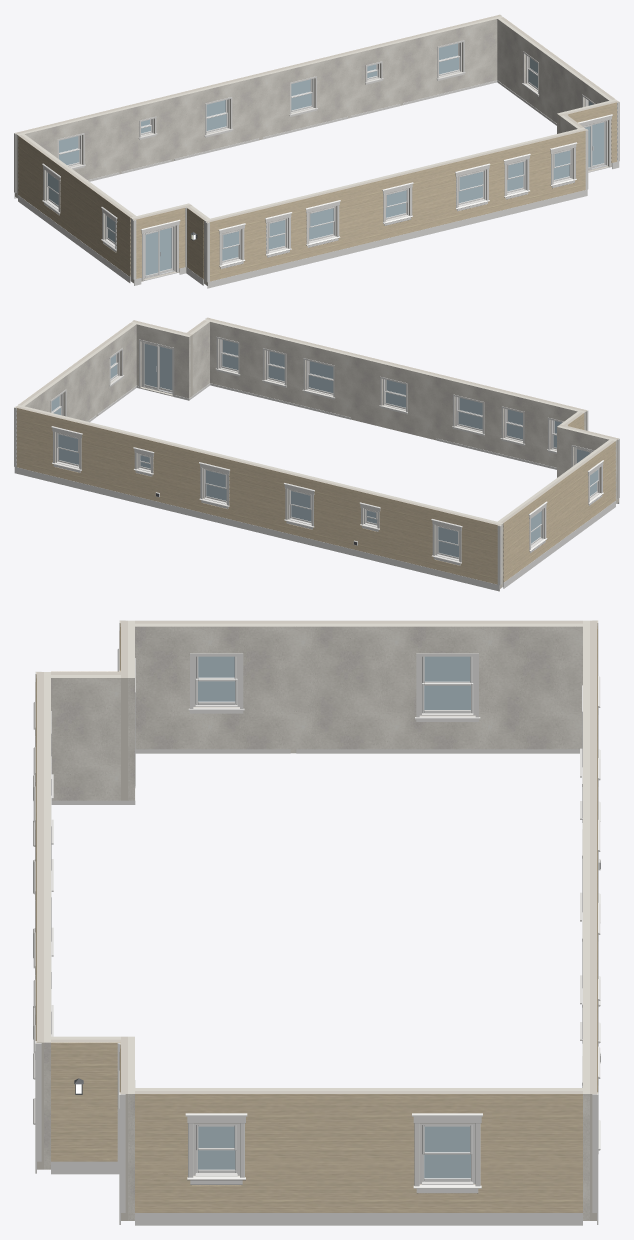
Rendered from shell_t.glb.
The picture shows the model from 3 angles, top to bottom: view 1: azimuth 30°, elevation 25°; view 2: azimuth 150°, elevation 25°; view 3: azimuth 270°, elevation 25°; orthographic projection. The views are drawn at different scales.
Visible parts, largest first — view 1: shell_t_plaster, shell_t_siding, shell_t_trim, shell_t_glass, shell_t_wrap, shell_t_sash, shell_t_frame; view 2: shell_t_siding, shell_t_plaster, shell_t_trim, shell_t_glass, shell_t_wrap, shell_t_sash, shell_t_frame; view 3: shell_t_plaster, shell_t_siding, shell_t_trim, shell_t_wrap, shell_t_glass, shell_t_sash, shell_t_frame.
Boxes of the visible parts, box(x1,y1,x2,y2) form: shell_t_plaster: box(16, 16, 616, 284); shell_t_siding: box(18, 19, 618, 281); shell_t_trim: box(14, 14, 619, 288); shell_t_glass: box(48, 43, 604, 275); shell_t_wrap: box(15, 15, 618, 285); shell_t_sash: box(47, 43, 605, 277); shell_t_frame: box(46, 42, 607, 278); shell_t_siding: box(16, 323, 615, 584); shell_t_plaster: box(17, 319, 617, 587); shell_t_trim: box(14, 317, 619, 591); shell_t_glass: box(51, 340, 598, 557); shell_t_wrap: box(15, 317, 618, 588); shell_t_sash: box(51, 339, 598, 559); shell_t_frame: box(56, 339, 599, 560); shell_t_plaster: box(44, 620, 589, 1220); shell_t_siding: box(35, 621, 597, 1212); shell_t_trim: box(33, 620, 600, 1225); shell_t_wrap: box(37, 620, 596, 1220); shell_t_glass: box(198, 656, 470, 1178); shell_t_sash: box(195, 656, 473, 1181); shell_t_frame: box(193, 656, 475, 1183).
Bounding box in the file's own units: 24.16 × 3.1 × 12.17.
Materials: 13 (2 with a texture image).
